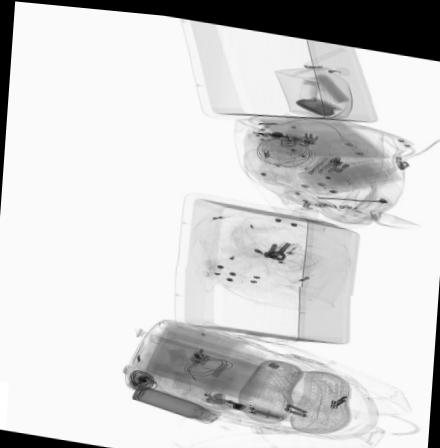Lighter: (305, 148, 332, 168)
